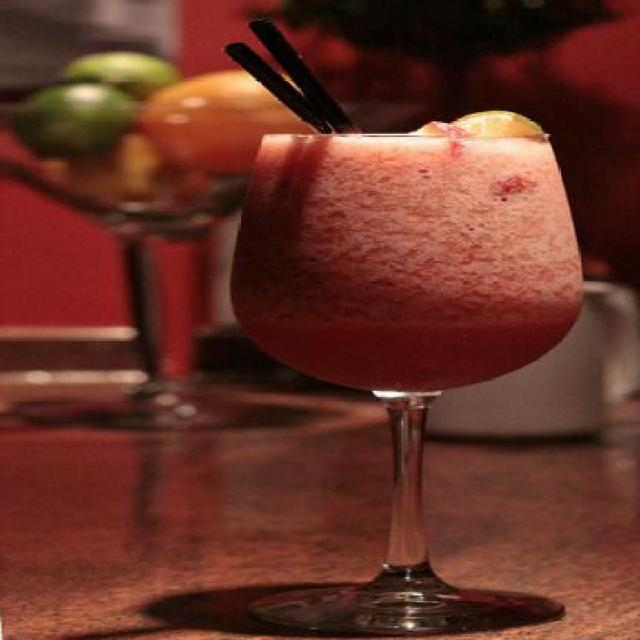Juice: (240, 119, 562, 535)
